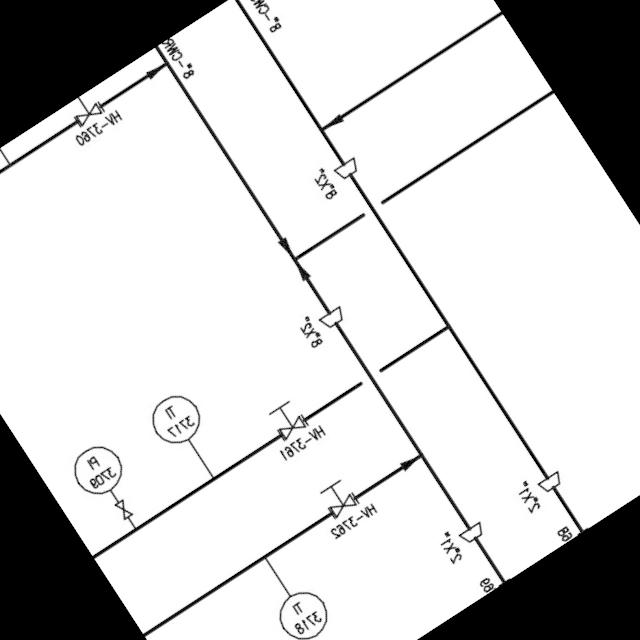GV: (104, 492, 134, 526)
HVWT: (260, 390, 312, 446), (316, 472, 358, 520)
SP: (453, 512, 493, 550), (312, 296, 352, 333), (532, 463, 568, 498), (326, 150, 364, 183)
